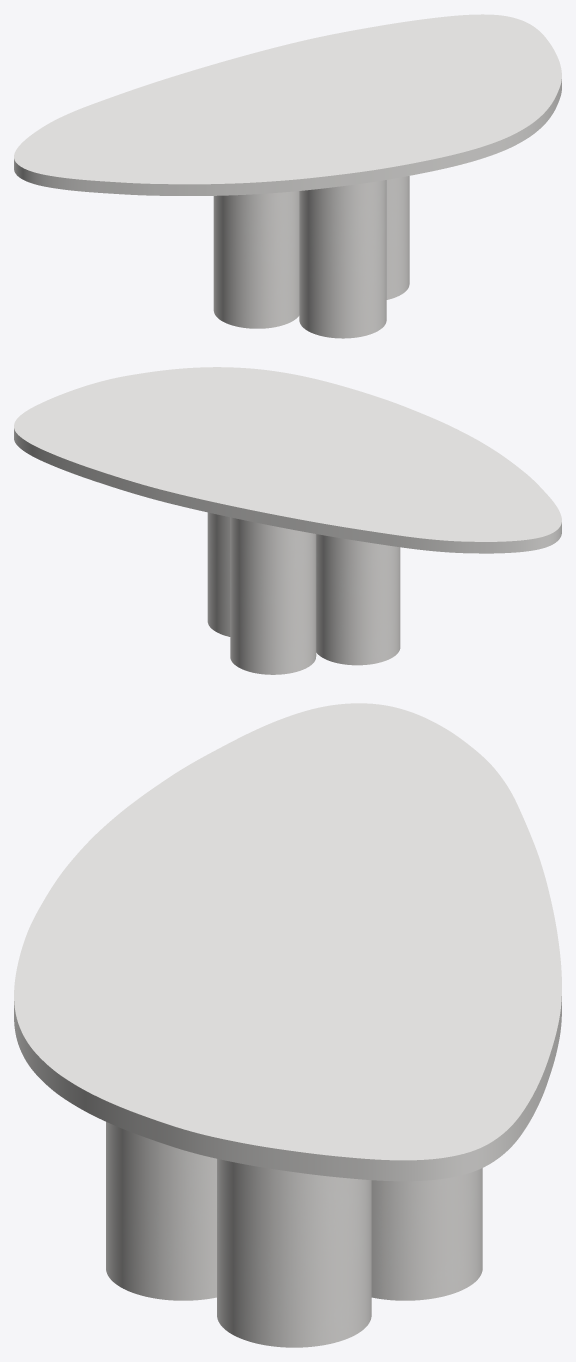
The model's file is purewhite_pebbletop_standard_secondtable.glb.
3 renders of one model, top to bottom at view 1: azimuth 30°, elevation 25°; view 2: azimuth 150°, elevation 25°; view 3: azimuth 270°, elevation 25°, orthographic. The views are drawn at different scales.
Visible parts, largest first — view 1: standard_pebbletop, secondtable; view 2: standard_pebbletop, secondtable; view 3: standard_pebbletop, secondtable.
Part boxes in pixels (bbox=[...]): standard_pebbletop: bbox=[14, 14, 561, 195]; secondtable: bbox=[213, 176, 409, 338]; standard_pebbletop: bbox=[14, 367, 561, 553]; secondtable: bbox=[207, 512, 400, 674]; standard_pebbletop: bbox=[14, 703, 561, 1181]; secondtable: bbox=[106, 1122, 482, 1347].
Bounding box in the file's own units: 7.5 × 2.51 × 3.8.
1 material, 1 textured.
